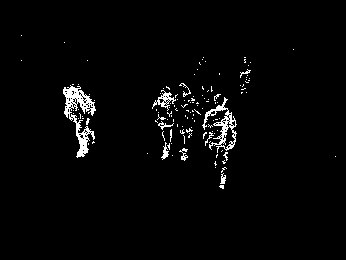person: (202, 92, 237, 190), (59, 82, 97, 160), (173, 83, 198, 161), (150, 86, 176, 161)
